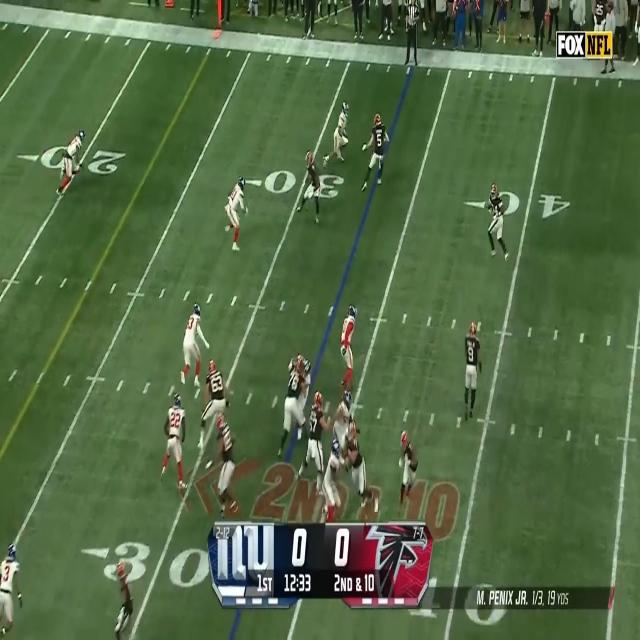Ball: (453, 212, 470, 234)
